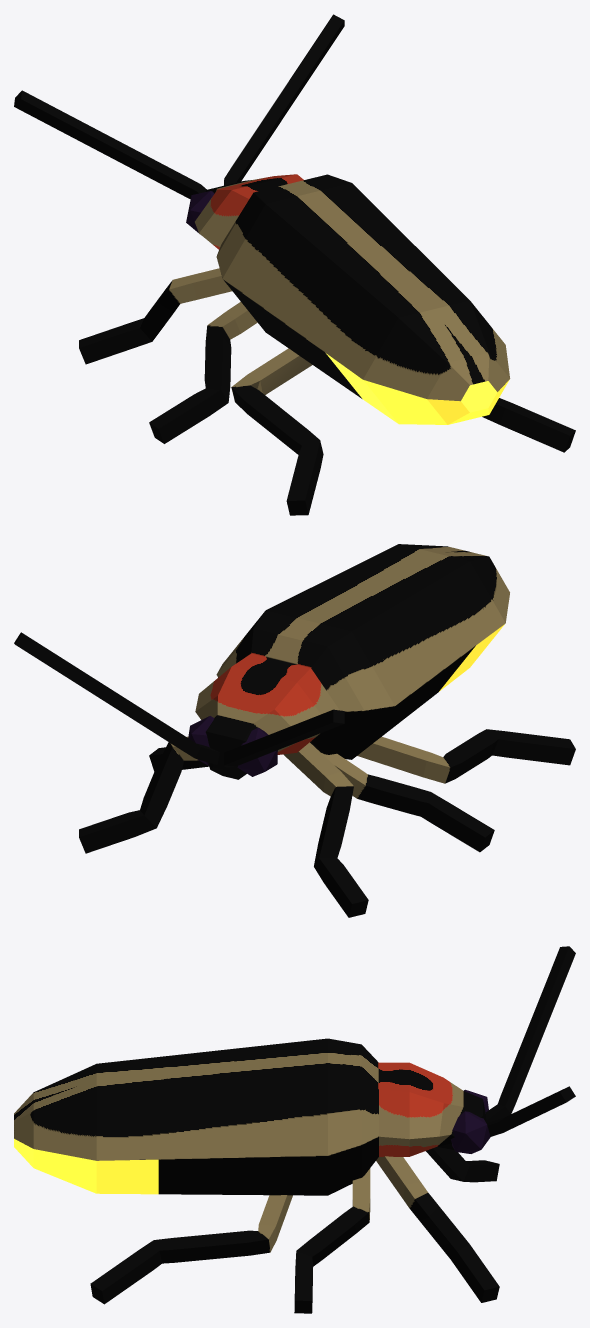
Rendered from firefly.fbx.
3 renders of one model, top to bottom at view 1: azimuth 30°, elevation 25°; view 2: azimuth 150°, elevation 25°; view 3: azimuth 270°, elevation 25°, orthographic. The views are drawn at different scales.
Visible parts, largest first — view 1: firefly; view 2: firefly; view 3: firefly.
Boxes of the visible parts, <box> form: firefly: <box>14,14,575,515</box>; firefly: <box>14,544,575,917</box>; firefly: <box>14,946,575,1313</box>.
Bounding box in the file's own units: 194 × 304 × 134.
2 materials, 1 textured.
